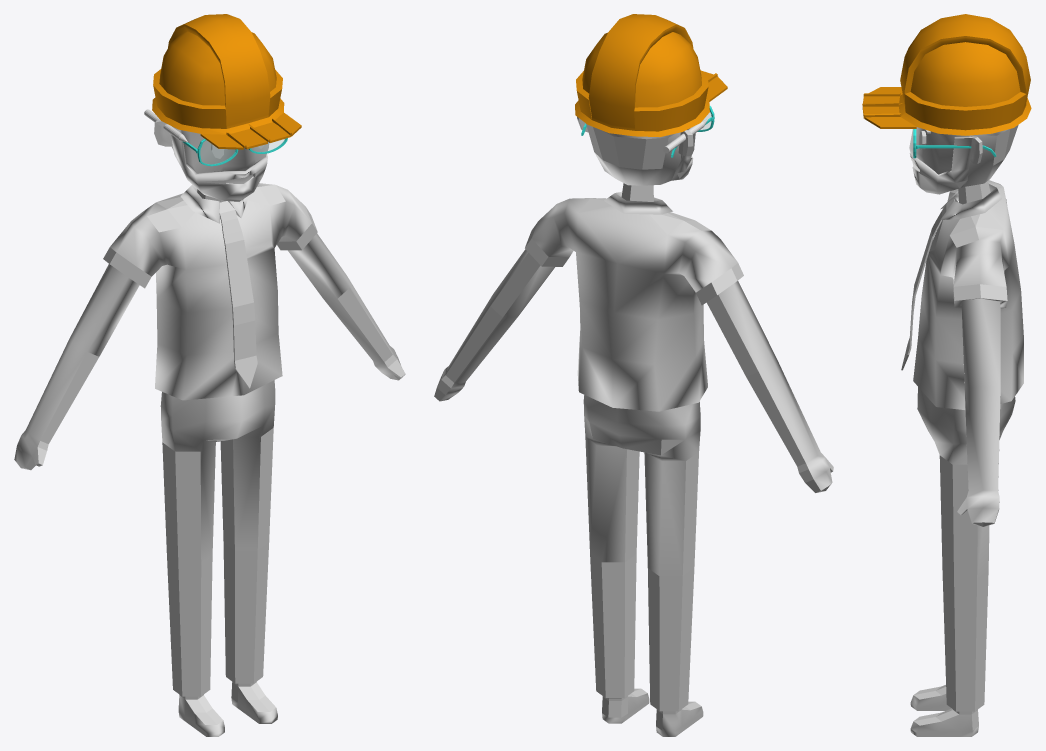
The model's file is Kevin.fbx.
The picture shows the model from 3 angles, left to right: view 1: azimuth 30°, elevation 25°; view 2: azimuth 150°, elevation 25°; view 3: azimuth 270°, elevation 25°; orthographic projection. The views are drawn at different scales.
Parts seen in each view (by area): view 1: Cylinder.003; view 2: Cylinder.003; view 3: Cylinder.003.
Boxes of the visible parts, x1,y1,x2,y2 form: Cylinder.003: (14, 14, 405, 736); Cylinder.003: (434, 14, 833, 736); Cylinder.003: (862, 14, 1031, 736).
Size of the model in its own units: 274 by 471 by 103.
